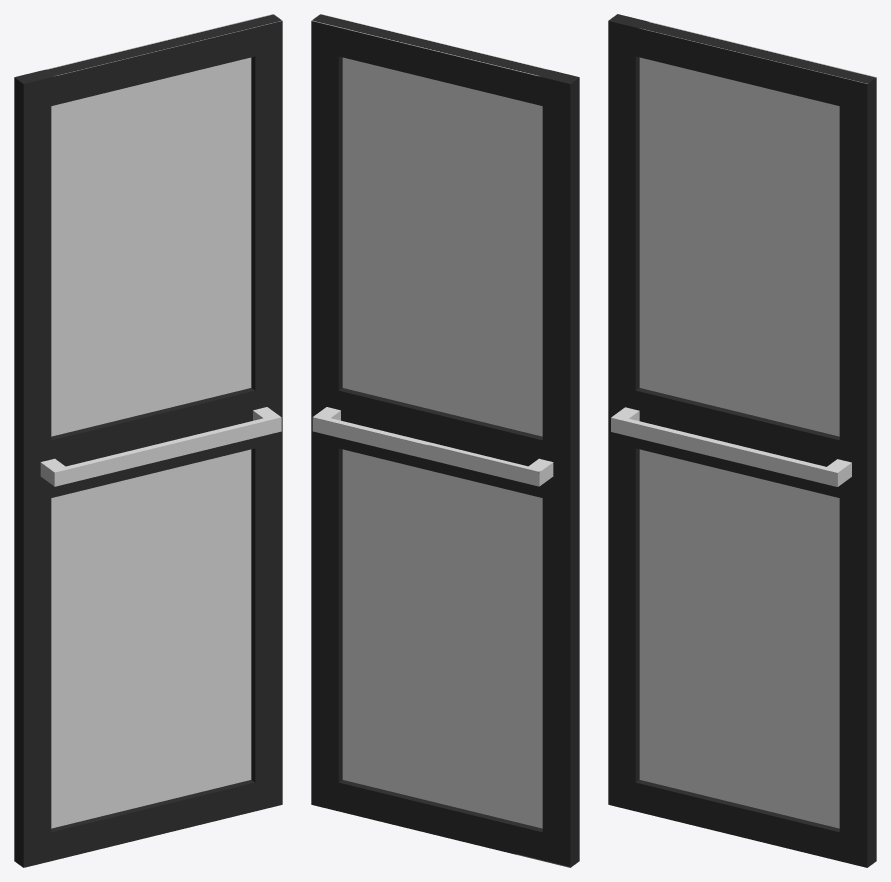
File: ExteriorDoor.fbx
3 views of the same model, side by side, from view 1: azimuth 30°, elevation 25°; view 2: azimuth 150°, elevation 25°; view 3: azimuth 330°, elevation 25° (orthographic).
Visible parts, largest first — view 1: ExtDoor; view 2: ExtDoor; view 3: ExtDoor.
Boxes of the visible parts, x1,y1,x2,y2 form: ExtDoor: [14, 14, 282, 867]; ExtDoor: [311, 14, 579, 867]; ExtDoor: [608, 14, 876, 867].
Bounding box in the file's own units: 79.94 × 231 × 20.13.
